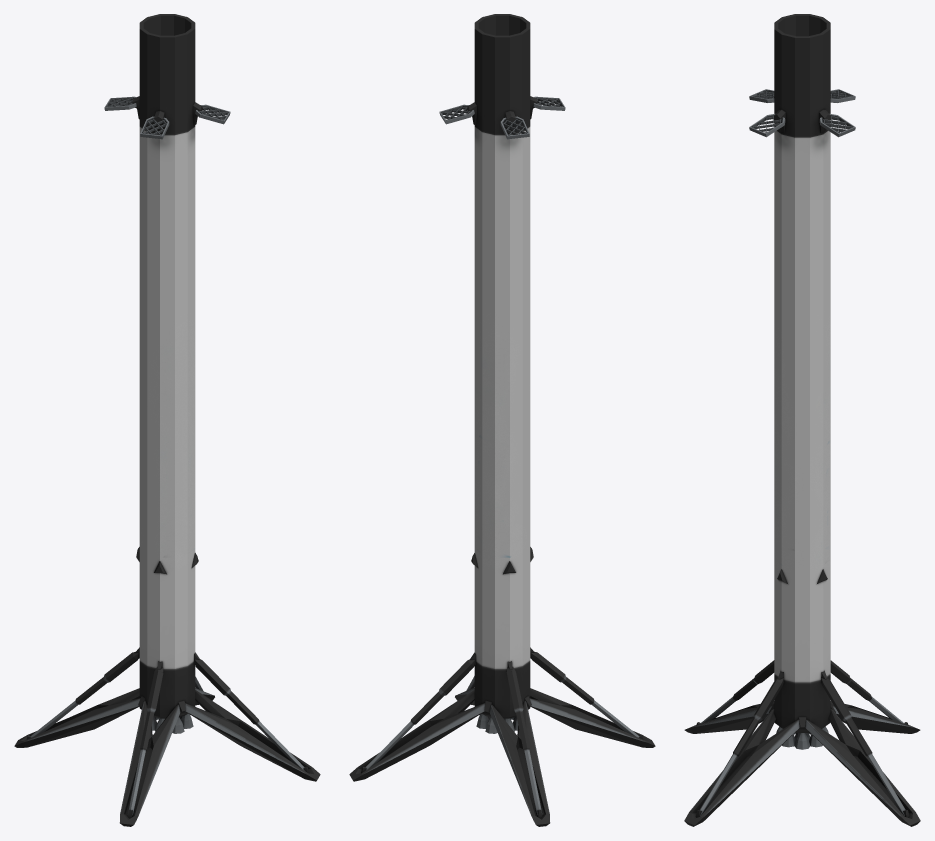
Rendered from space_x_booster.obj.
3 renders of one model, left to right at view 1: azimuth 30°, elevation 25°; view 2: azimuth 150°, elevation 25°; view 3: azimuth 270°, elevation 25°, orthographic. The views are drawn at different scales.
Parts seen in each view (by area): view 1: Falcon_9_Landed_Circle.001; view 2: Falcon_9_Landed_Circle.001; view 3: Falcon_9_Landed_Circle.001.
Boxes of the visible parts, x1,y1,x2,y2 form: Falcon_9_Landed_Circle.001: (14, 14, 320, 826); Falcon_9_Landed_Circle.001: (349, 14, 655, 826); Falcon_9_Landed_Circle.001: (684, 14, 920, 826).
Size of the model in its own units: 2.21 by 7.76 by 2.21.
